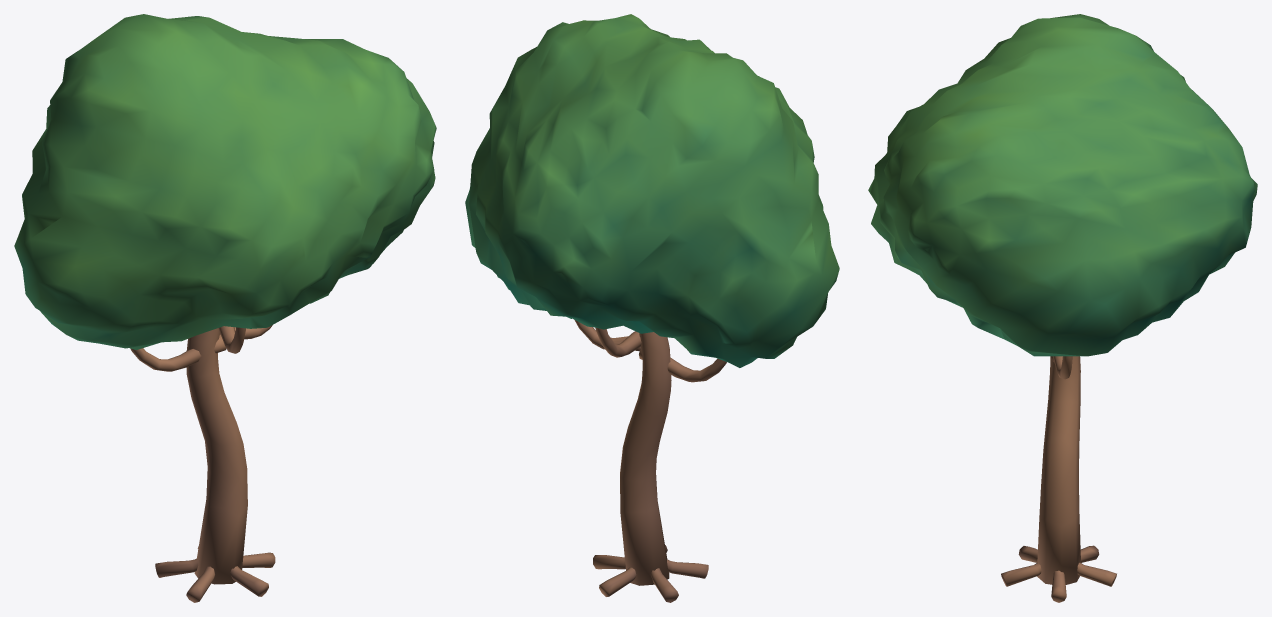
Rendered from garden-tree-far.glb.
The picture shows the model from 3 angles, left to right: view 1: azimuth 30°, elevation 25°; view 2: azimuth 150°, elevation 25°; view 3: azimuth 270°, elevation 25°; orthographic projection. The views are drawn at different scales.
Visible parts, largest first — view 1: Sculpted crown.001, Painted trunk and roots; view 2: Sculpted crown.001, Painted trunk and roots; view 3: Sculpted crown.001, Painted trunk and roots.
Boxes of the visible parts, x1,y1,x2,y2 form: Sculpted crown.001: [14, 14, 436, 349]; Painted trunk and roots: [130, 325, 275, 602]; Sculpted crown.001: [465, 14, 839, 367]; Painted trunk and roots: [574, 320, 726, 602]; Sculpted crown.001: [868, 14, 1257, 356]; Painted trunk and roots: [1001, 356, 1116, 602].
Bounding box in the file's own units: 6.21 × 9.13 × 6.07.
